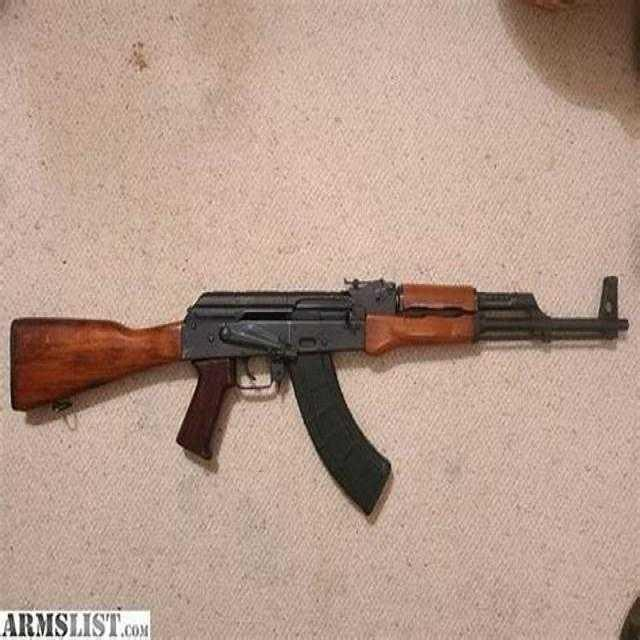ak: (13, 270, 637, 528)
